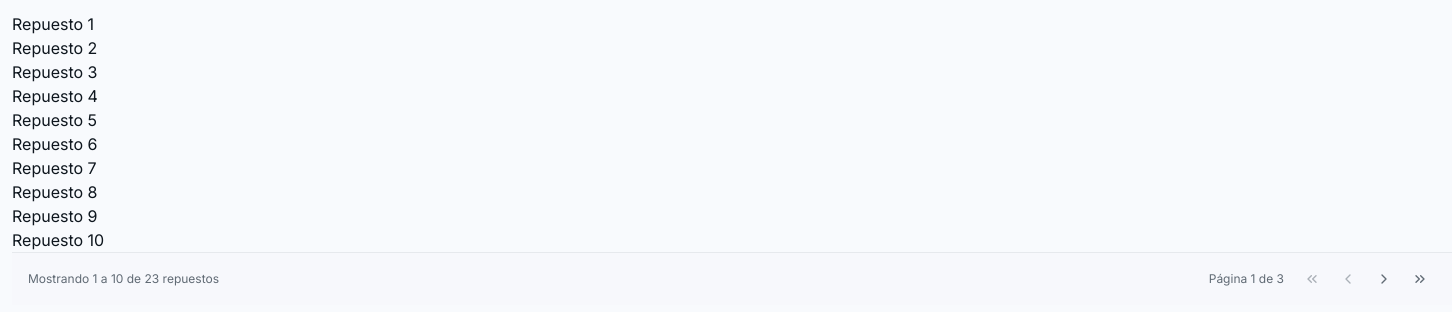
Test: el pie de la tabla paginada › los botones llevan a la última página y de vuelta a la primera
Click the button named "Última página" at x=1420, y=279, box [1404,263,1436,295]
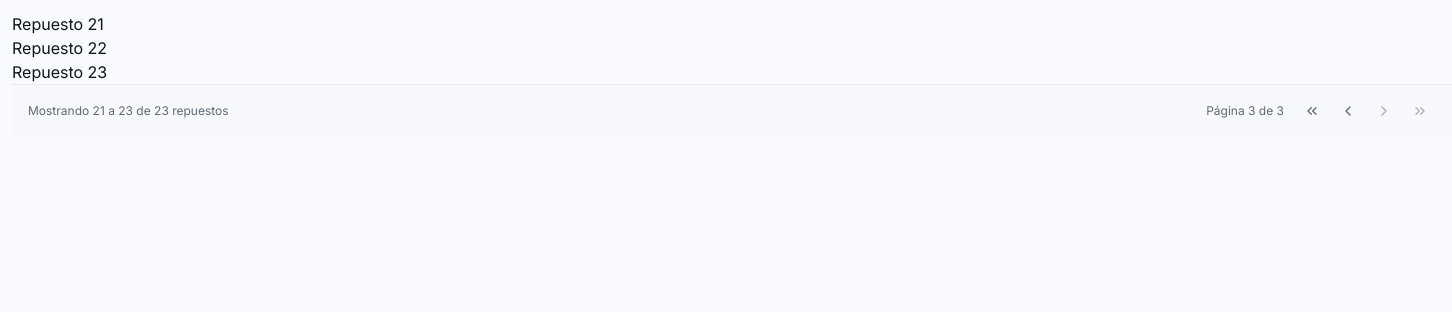
Expected: the text "Mostrando 21 a 23 de 23 repuestos" is shown, [28,103,229,119]
Expected: the text "Página 3 de 3" is shown, [1206,103,1284,119]
Expected: the button named "Última página" is disabled, [1404,95,1436,127]
Click the button named "Página anterior" at x=1348, y=111, box [1332,95,1364,127]
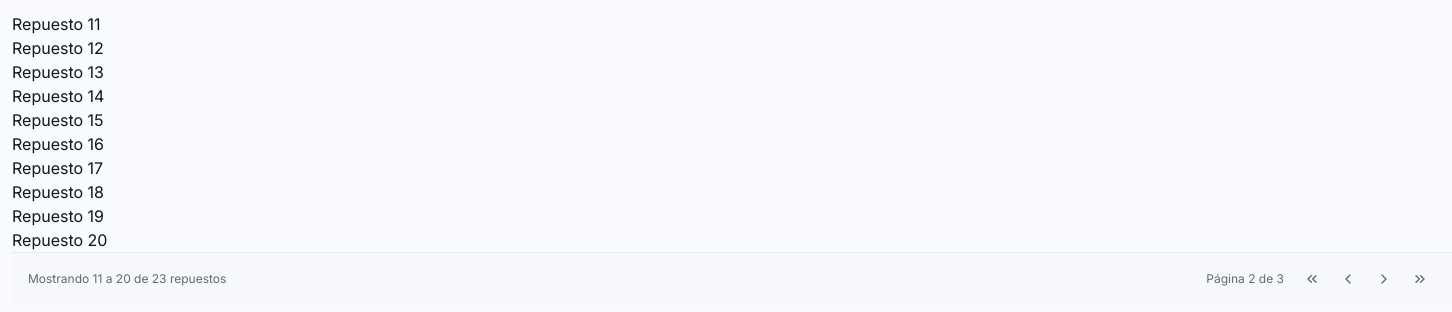
Expected: the text "Página 2 de 3" is shown, [1206,271,1284,287]
Click the button named "Primera página" at x=1312, y=279, box [1296,263,1328,295]
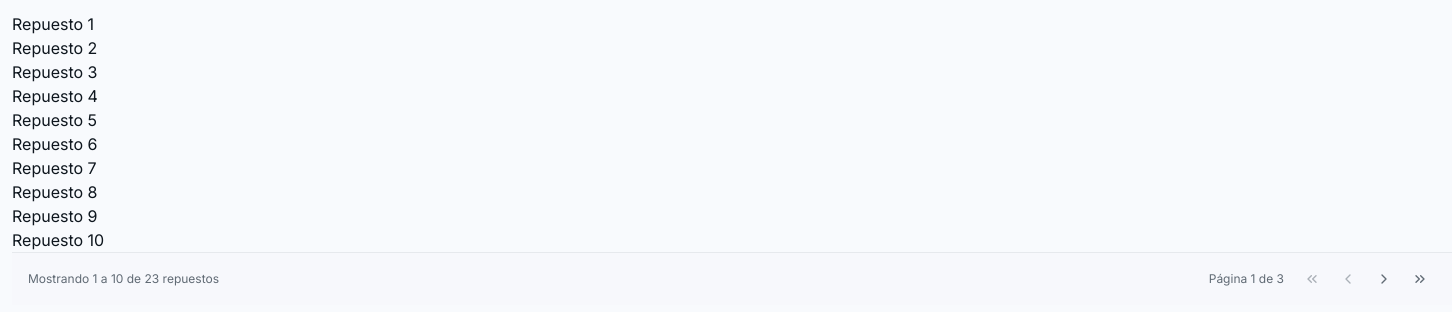
Expected: the text "Página 1 de 3" is shown, [1209,271,1284,287]
